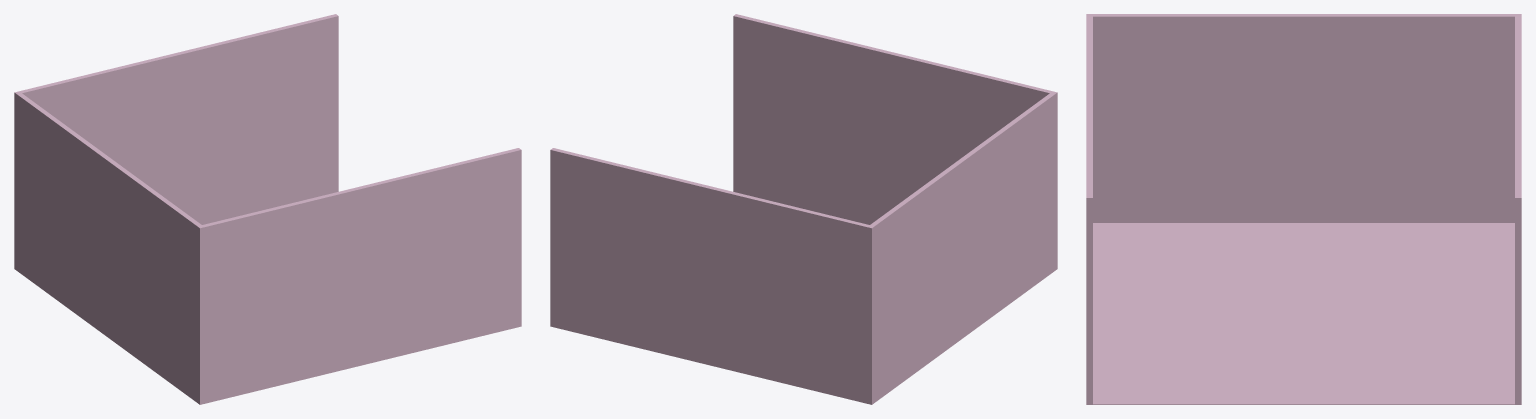
The model's file is Room.glb.
The picture shows the model from 3 angles, left to right: view 1: azimuth 30°, elevation 25°; view 2: azimuth 150°, elevation 25°; view 3: azimuth 270°, elevation 25°; orthographic projection. The views are drawn at different scales.
Parts seen in each view (by area): view 1: Cube; view 2: Cube; view 3: Cube.
Part boxes in pixels (x1,y1,x2,y2): Cube: [14, 14, 521, 404]; Cube: [550, 14, 1057, 404]; Cube: [1086, 14, 1521, 404].
Size of the model in its own units: 100 by 52.5 by 100.
